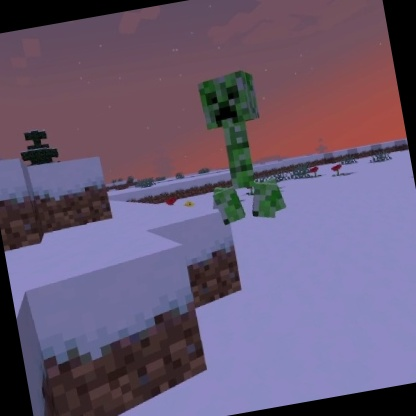creeper: (187, 64, 292, 231)
